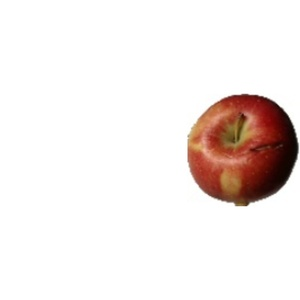maçã braeburn: (181, 90, 299, 203)
